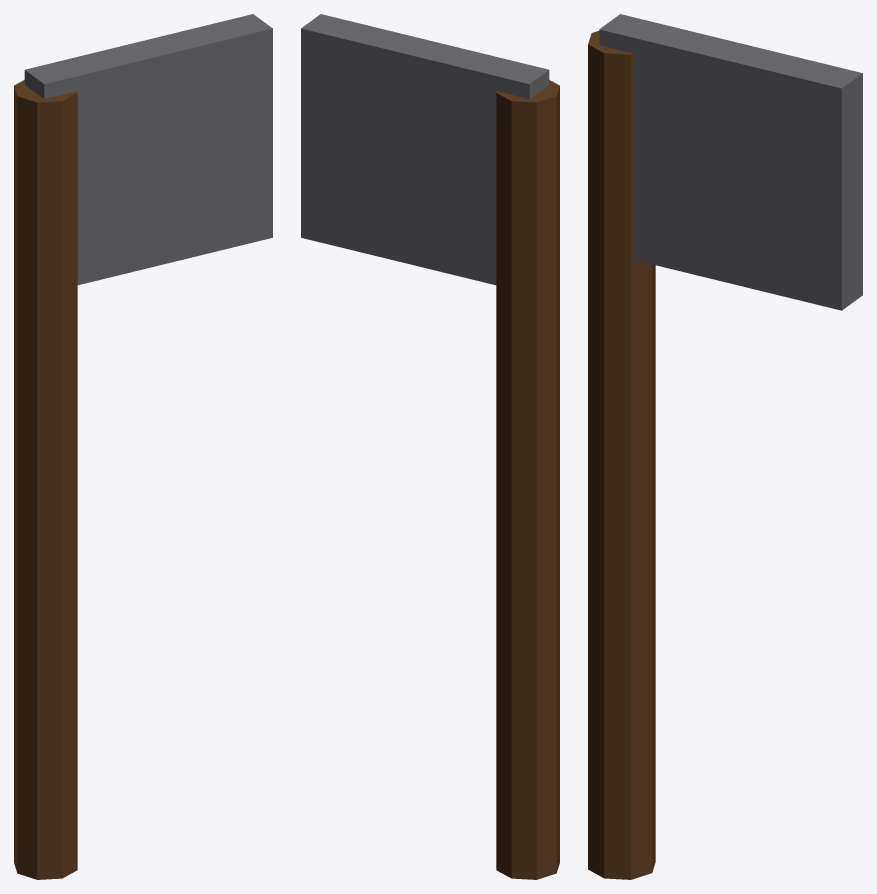
Rendered from SM_GZ_tool_axe.fbx.
3 renders of one model, left to right at view 1: azimuth 30°, elevation 25°; view 2: azimuth 150°, elevation 25°; view 3: azimuth 330°, elevation 25°, orthographic. The views are drawn at different scales.
Visible parts, largest first — view 1: SM_GZ_tool_axe; view 2: SM_GZ_tool_axe; view 3: SM_GZ_tool_axe.
Part boxes in pixels (x1,y1,x2,y2): SM_GZ_tool_axe: (14,14,272,879); SM_GZ_tool_axe: (301,14,559,879); SM_GZ_tool_axe: (588,14,862,879).
Size of the model in its own units: 43 by 132 by 10.
